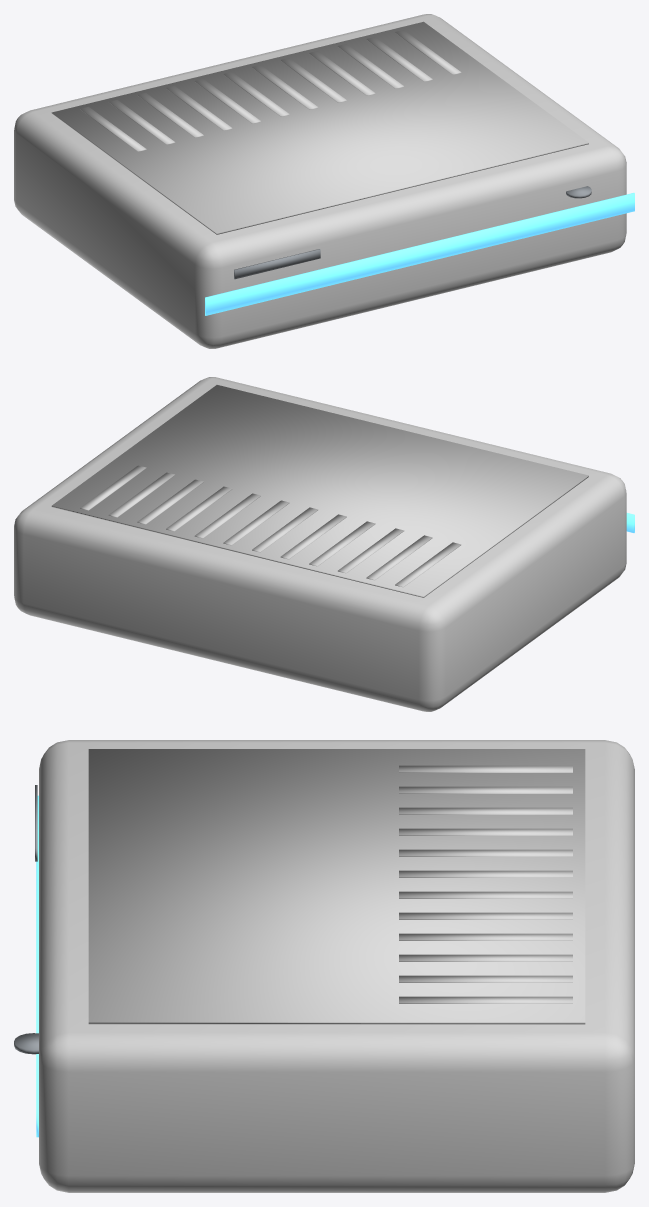
Rendered from props-gameconsole.glb.
3 renders of one model, top to bottom at view 1: azimuth 30°, elevation 25°; view 2: azimuth 150°, elevation 25°; view 3: azimuth 270°, elevation 25°, orthographic. The views are drawn at different scales.
Parts seen in each view (by area): view 1: GameConsole__Body, GameConsole__TopPanel, GameConsole__Stripe, GameConsole__SlotButton; view 2: GameConsole__Body, GameConsole__TopPanel; view 3: GameConsole__TopPanel, GameConsole__Body, GameConsole__Stripe, GameConsole__SlotButton.
Boxes of the visible parts, x1=… form: GameConsole__Body: x1=14, y1=14, x2=626, y2=348; GameConsole__TopPanel: x1=51, y1=21, x2=588, y2=234; GameConsole__Stripe: x1=205, y1=193, x2=634, y2=315; GameConsole__SlotButton: x1=234, y1=186, x2=591, y2=279; GameConsole__Body: x1=14, y1=377, x2=626, y2=711; GameConsole__TopPanel: x1=51, y1=385, x2=588, y2=597; GameConsole__TopPanel: x1=88, y1=749, x2=585, y2=1024; GameConsole__Body: x1=39, y1=740, x2=634, y2=1192; GameConsole__Stripe: x1=36, y1=795, x2=38, y2=1137; GameConsole__SlotButton: x1=14, y1=785, x2=38, y2=1054.
Bounding box in the file's own units: 30 × 7.15 × 25.
